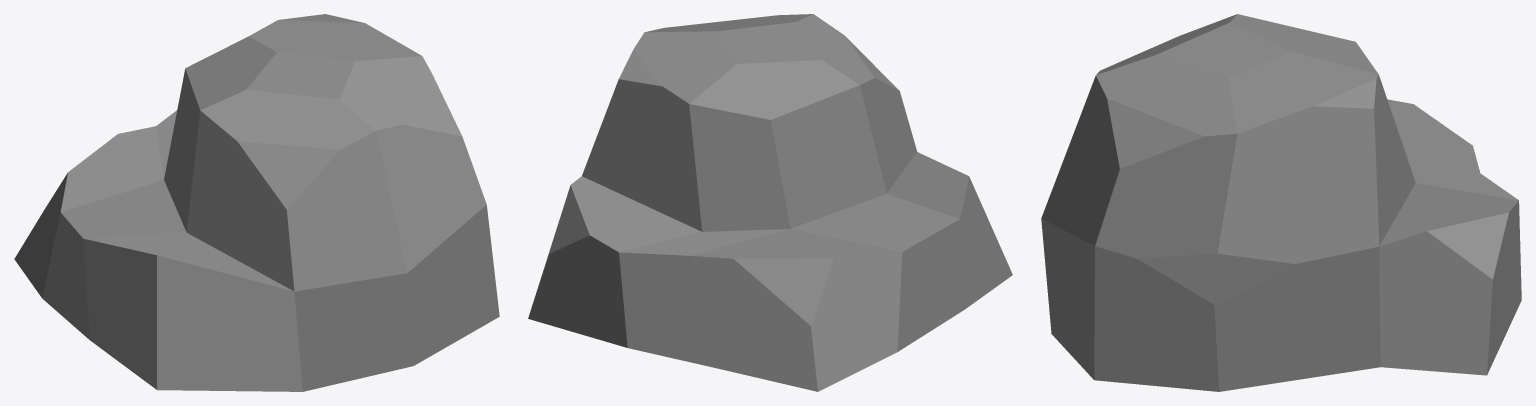
Rendered from Rock_7.fbx.
3 renders of one model, left to right at view 1: azimuth 30°, elevation 25°; view 2: azimuth 150°, elevation 25°; view 3: azimuth 270°, elevation 25°, orthographic. The views are drawn at different scales.
Parts seen in each view (by area): view 1: Rock_7; view 2: Rock_7; view 3: Rock_7.
Boxes of the visible parts, bbox=[...] form: Rock_7: bbox=[14, 14, 499, 391]; Rock_7: bbox=[528, 14, 1012, 391]; Rock_7: bbox=[1041, 14, 1521, 391].
Bounding box in the file's own units: 153 × 96.71 × 158.
